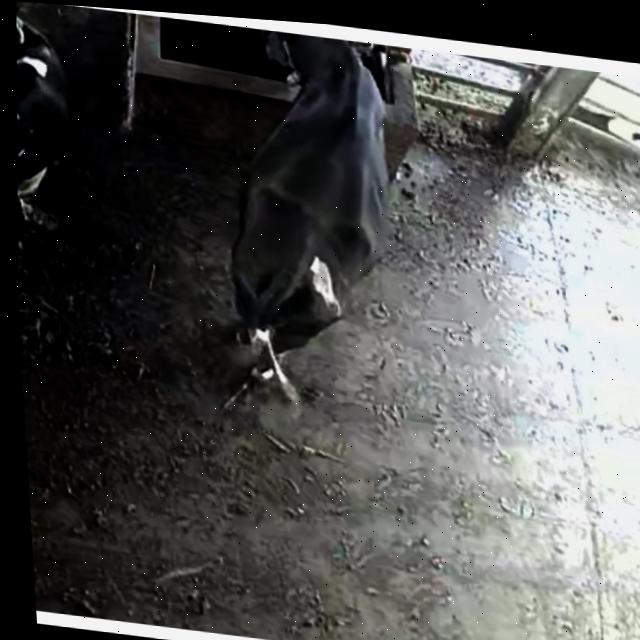drink: (238, 26, 415, 136)
